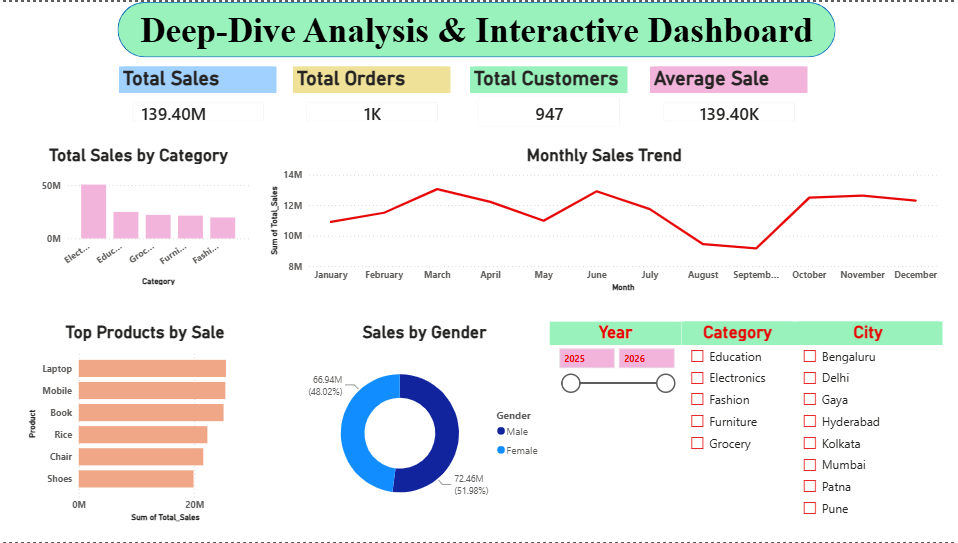

Layout of this report page (visuals, bound fields, positions):
{"tool":"powerbi","page":{"name":"Page 1","canvas":[1280,720],"ordinal":0},"visuals":[{"type":"cardVisual","title":"Total Sales","fields":{"Data":["Sum(Sheet1.Total_Sales)"]},"box":[160,86.2,210,90],"z":0},{"type":"cardVisual","title":"Total Orders","fields":{"Data":["CountNonNull(Sheet1.Order_ID)"]},"box":[392.5,86.2,210,90],"z":1000},{"type":"cardVisual","title":"Average Sale","fields":{"Data":["Avg(Sheet1.Total_Sales)"]},"box":[867.5,86.2,210,90],"z":2000},{"type":"cardVisual","title":"Total Customers","fields":{"Data":["Count(Sheet1.Customer_ID)"]},"box":[628.8,86.2,210,90],"z":3000},{"type":"textbox","box":[34,14.6,1224.1,58.3],"z":4000},{"type":"shape","box":[158.8,0,957.5,73.8],"z":5000},{"type":"clusteredColumnChart","title":"Total Sales by Category","fields":{"Category":["Sheet1.Category"],"Y":["Sum(Sheet1.Total_Sales)"]},"box":[34,190,304,192],"z":6000},{"type":"lineChart","title":"Monthly Sales Trend","fields":{"Category":["Sheet1.Order_Date.Variation.Date Hierarchy.Month"],"Y":["Sum(Sheet1.Total_Sales)"]},"box":[355.6,190,902.2,201.1],"z":7000},{"type":"clusteredBarChart","title":"Top Products by Sale","fields":{"Category":["Sheet1.Product"],"Y":["Sum(Sheet1.Total_Sales)"]},"box":[34.3,425.7,321.4,271.4],"z":8000},{"type":"donutChart","title":"Sales by Gender","fields":{"Category":["Sheet1.Gender"],"Y":["Sum(Sheet1.Total_Sales)"]},"box":[400,425.7,334.3,271.4],"z":9000},{"type":"slicer","title":"Year","fields":{"Values":["Sheet1.Year"]},"box":[734,426,176,224],"z":10000},{"type":"slicer","title":"Category","fields":{"Values":["Sheet1.Category"]},"box":[910,426,150,224],"z":11000},{"type":"slicer","title":"City","fields":{"Values":["Sheet1.City"]},"box":[1060,426,198,272],"z":12000}]}

Visuals, with their boxes in screenshot pixels (x1, y1, x2, y2), scaled from the page's 1280x720 canvas onto the 958x543 screenshot:
"Total Sales" cardVisual: [120,65,277,133]
"Total Orders" cardVisual: [294,65,451,133]
"Average Sale" cardVisual: [649,65,806,133]
"Total Customers" cardVisual: [471,65,628,133]
textbox: [25,11,942,55]
shape: [119,0,835,56]
"Total Sales by Category" clusteredColumnChart: [25,143,253,288]
"Monthly Sales Trend" lineChart: [266,143,941,295]
"Top Products by Sale" clusteredBarChart: [26,321,266,526]
"Sales by Gender" donutChart: [299,321,550,526]
"Year" slicer: [549,321,681,490]
"Category" slicer: [681,321,793,490]
"City" slicer: [793,321,942,526]
